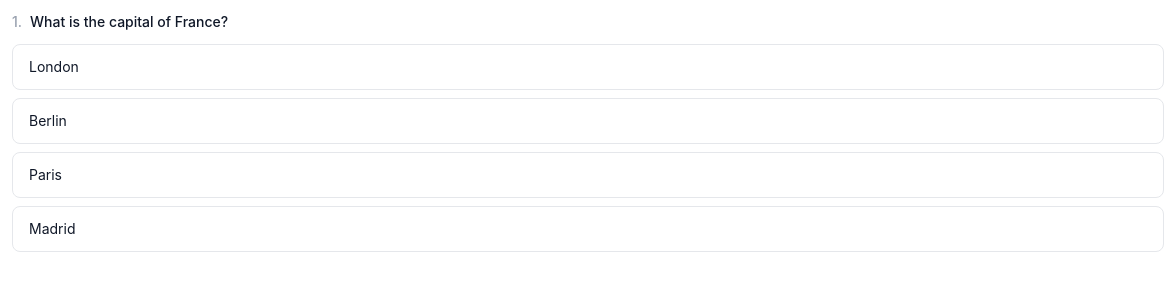
QuizMultipleChoice › reveals the correct answer text after a wrong selection
The width and height of the screenshot is (1176, 296).
Step 1. Click the button "London" → x=54, y=66, box [12,44,1164,90]
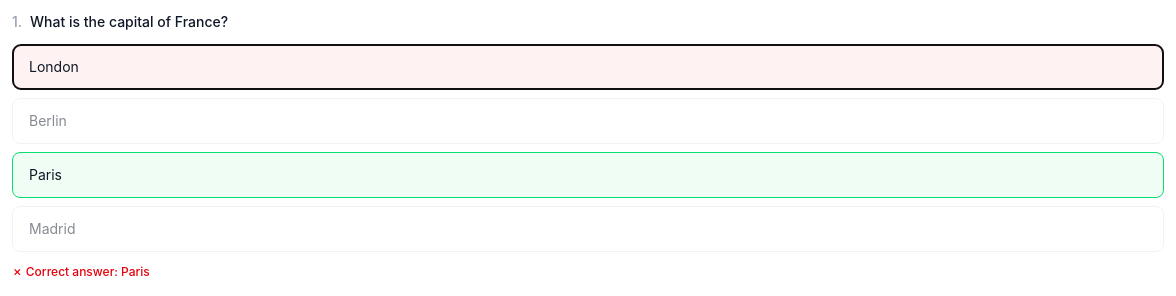
Expected: the text "✗ Correct answer: Paris" is shown, [12,264,150,279]
